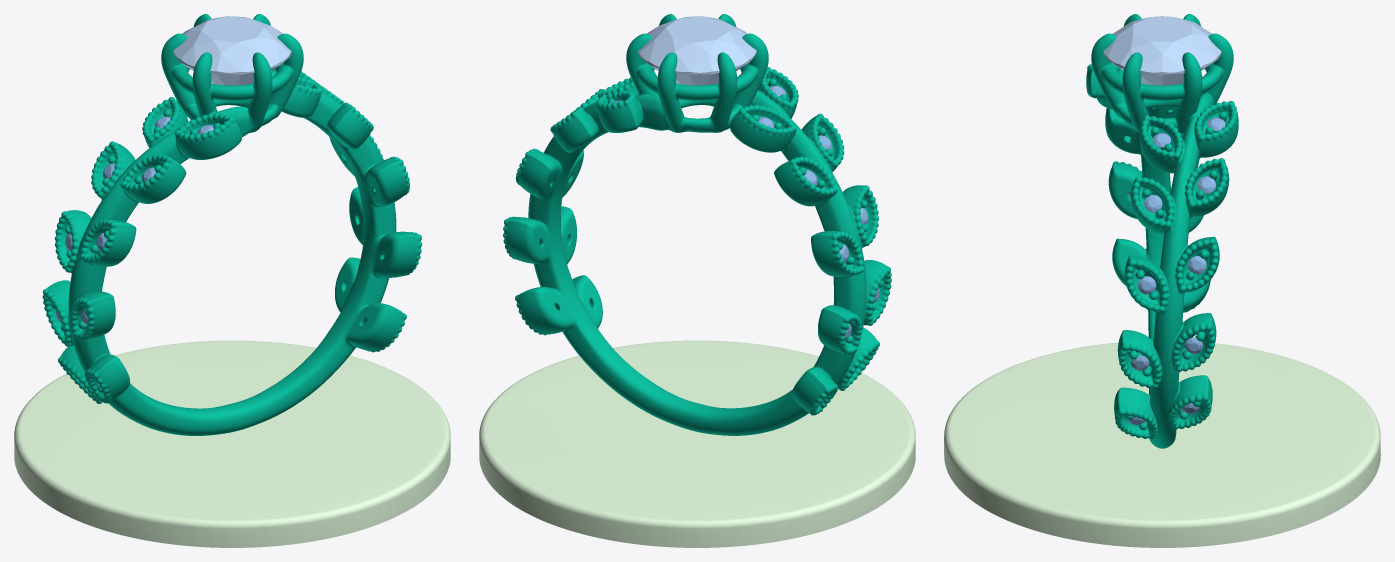
3 renders of one model, left to right at view 1: azimuth 30°, elevation 25°; view 2: azimuth 150°, elevation 25°; view 3: azimuth 270°, elevation 25°, orthographic.
Parts seen in each view (by area): view 1: Thin Vines Engagement Ring.3dm, Diamond_Round; view 2: Thin Vines Engagement Ring.3dm, Diamond_Round; view 3: Thin Vines Engagement Ring.3dm, Diamond_Round.
Boxes of the visible parts, x1,y1,x2,y2 form: Thin Vines Engagement Ring.3dm: [14, 14, 450, 547]; Diamond_Round: [173, 16, 291, 85]; Thin Vines Engagement Ring.3dm: [479, 14, 915, 547]; Diamond_Round: [638, 16, 756, 85]; Thin Vines Engagement Ring.3dm: [944, 14, 1380, 547]; Diamond_Round: [1103, 16, 1221, 85].
Bounding box in the file's own units: 2.25 × 2.42 × 2.25.
